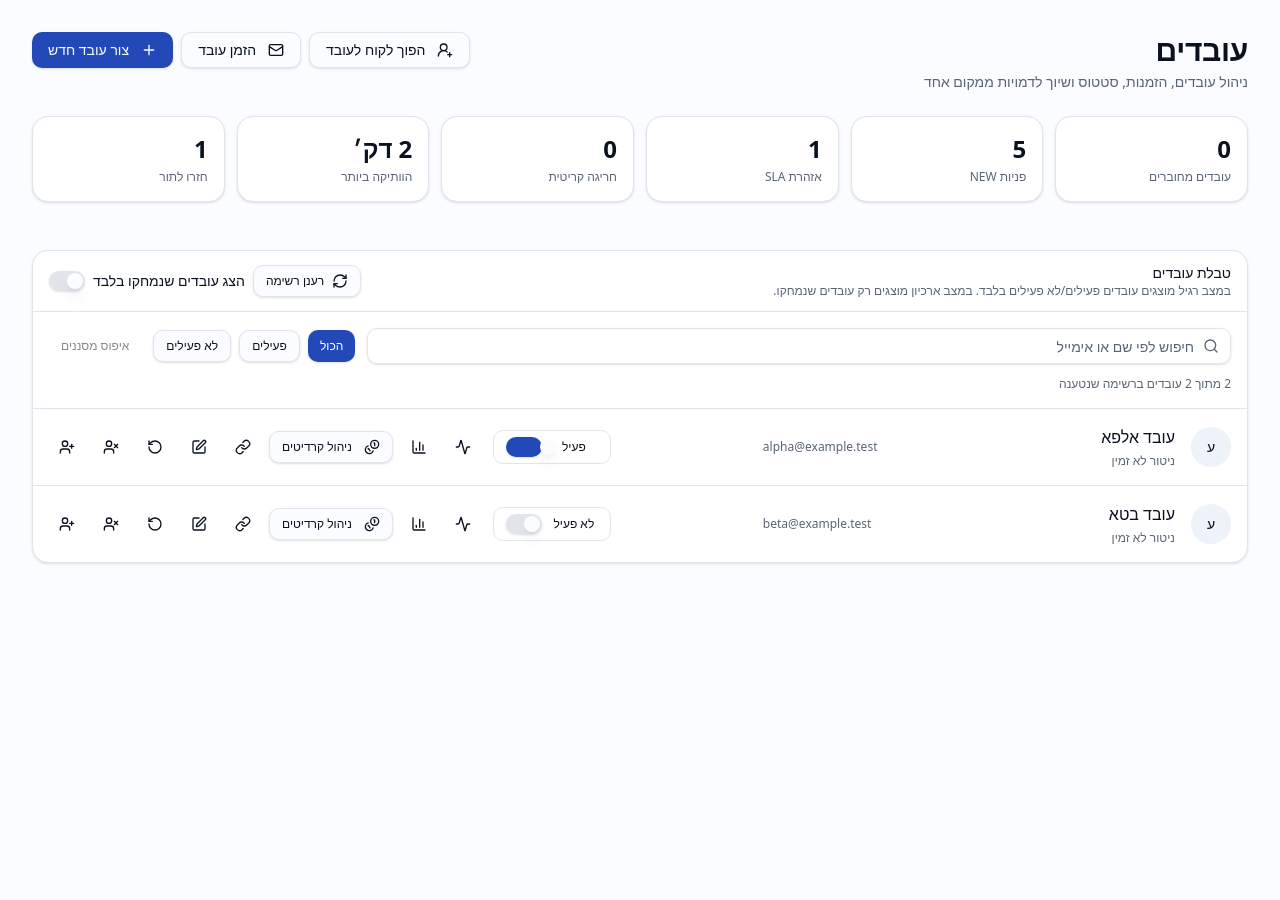
admin operator workspace › treats a missing presence row as unavailable instead of offline or zero
Check: the text "עובד אלפא" is shown, box [1101,426,1175,448]
Check: the text "ניטור לא זמין" below "עובד אלפא" is shown, box [1112,452,1175,469]
Click the button named "ניטור עובד: עובד אלפא" at (463,447), box [445,429,481,465]
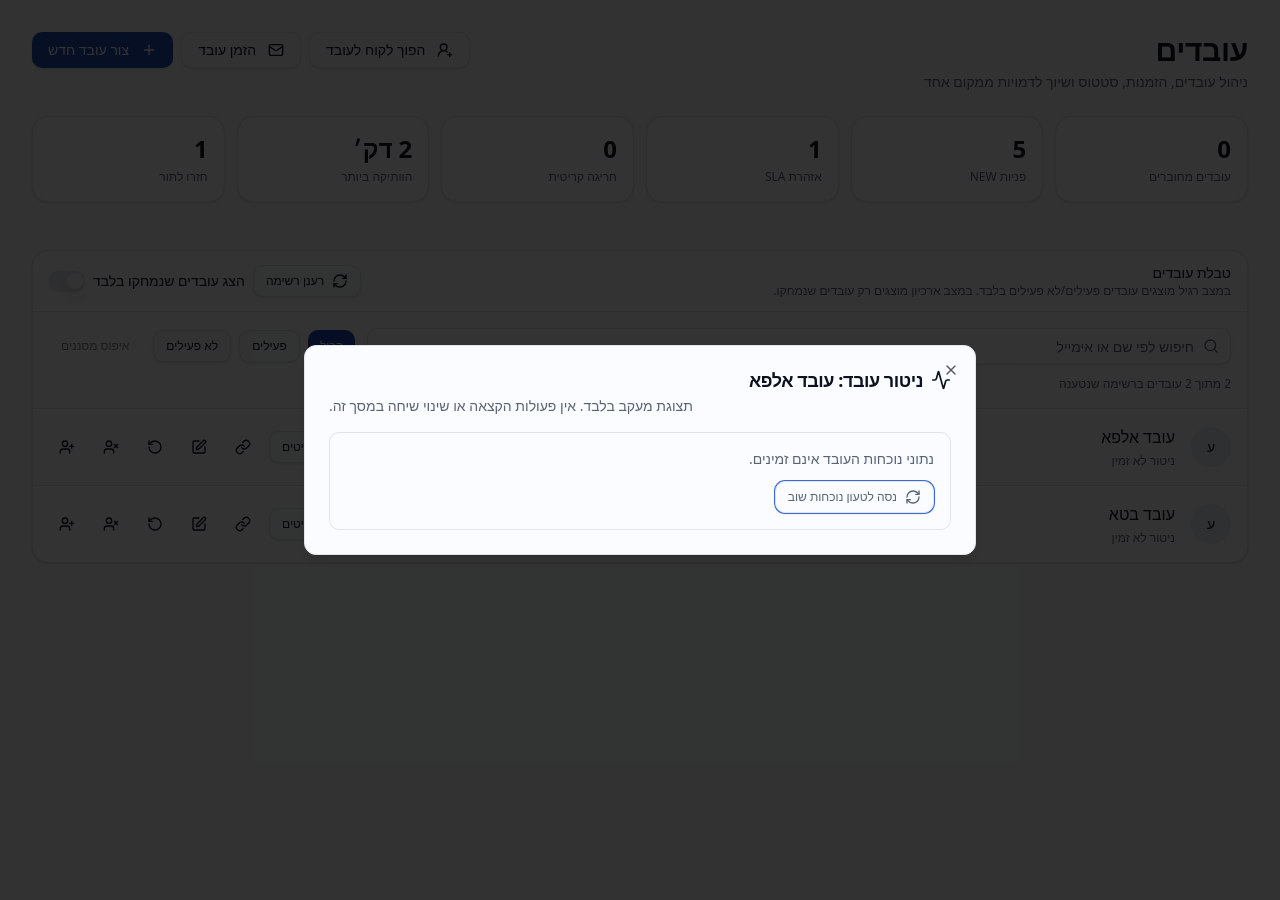
Check: the text "נתוני נוכחות העובד אינם זמינים." is shown, box [749,449,934,468]
Check: the button "נסה לטעון נוכחות שוב" is enabled, box [775,481,934,513]
